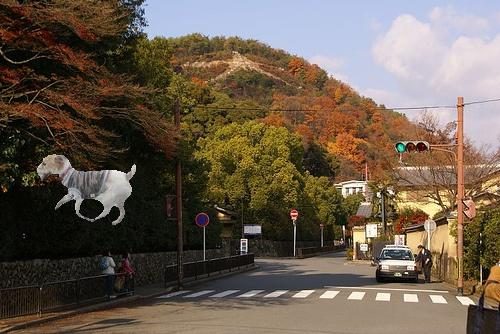tampered: (38, 155, 136, 225)
